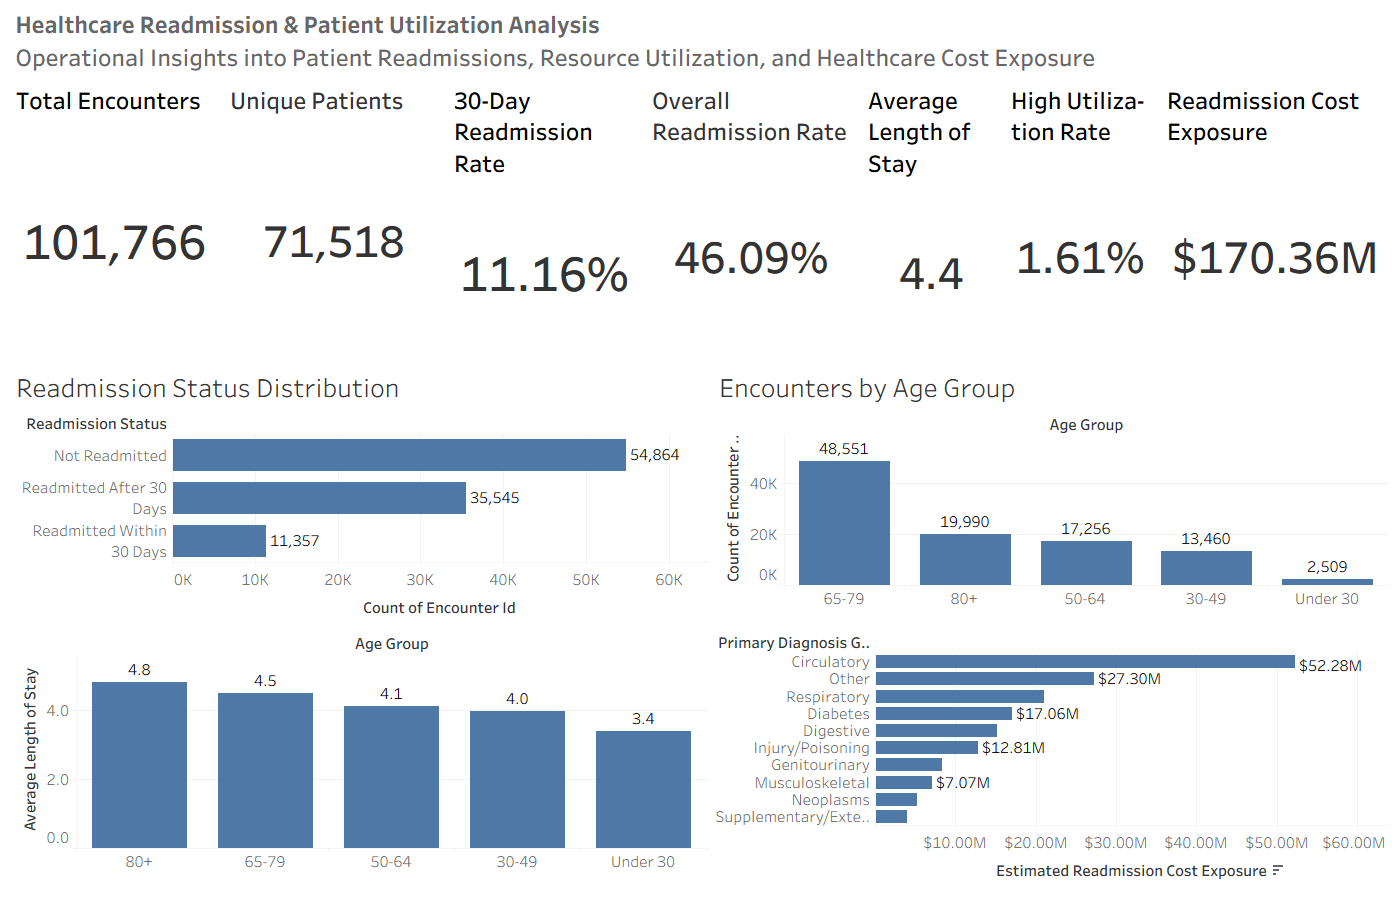

What the dashboard file says about the page in this screenshot:
{"tool":"tableau","page":{"name":"Healthcare Readmission & Patient Utilization Analysis","canvas":[1400,900],"ordinal":0},"visuals":[{"type":"text","box":[8,8,1384,32]},{"type":"text","box":[8,40,1384,34]},{"type":"worksheet","title":"KPI - Total Encounters","mark":"Automatic","box":[8,74,214,286]},{"type":"worksheet","title":"KPI - Unique Patients","mark":"Automatic","box":[222,74,224,286]},{"type":"worksheet","title":"KPI - 30 Day Readmission Rate","mark":"Text","box":[446,74,198,286]},{"type":"worksheet","title":"KPI - Overall Readmission Rate","mark":"Automatic","box":[644,74,216,286]},{"type":"worksheet","title":"KPI - Average Length of Stay","mark":"Automatic","box":[860,74,143,286]},{"type":"worksheet","title":"KPI - High Utilization Rate","mark":"Automatic","box":[1003,74,156,286]},{"type":"worksheet","title":"KPI - Estimated Readmission Cost Exposure","mark":"Automatic","box":[1158.9,74,233.1,286]},{"type":"worksheet","title":"Readmission Status Distribution","mark":"Automatic","rows":["readmission_status"],"cols":["encounter_id"],"box":[8,360,703,269]},{"type":"worksheet","title":"Encounters by Age Group","mark":"Automatic","rows":["encounter_id"],"cols":["age_group"],"box":[711,360,681,269]},{"type":"worksheet","title":"Average Length of Stay by Age Group","mark":"Automatic","rows":["Calculation_0899963196809220"],"cols":["age_group"],"box":[8,629,703,263]},{"type":"worksheet","title":"Readmission Cost Exposure by Diagnosis Group","mark":"Automatic","rows":["primary_diagnosis_group"],"cols":["estimated_readmission_cost_exposure"],"box":[711,629,681,263]}]}

Visuals, with their boxes in screenshot pixels (x1, y1, x2, y2), scaled from the page's 1400x900 canvas onto the 1400x900 screenshot:
text: (x1=8, y1=8, x2=1392, y2=40)
text: (x1=8, y1=40, x2=1392, y2=74)
"KPI - Total Encounters" worksheet: (x1=8, y1=74, x2=222, y2=360)
"KPI - Unique Patients" worksheet: (x1=222, y1=74, x2=446, y2=360)
"KPI - 30 Day Readmission Rate" worksheet (Text marks): (x1=446, y1=74, x2=644, y2=360)
"KPI - Overall Readmission Rate" worksheet: (x1=644, y1=74, x2=860, y2=360)
"KPI - Average Length of Stay" worksheet: (x1=860, y1=74, x2=1003, y2=360)
"KPI - High Utilization Rate" worksheet: (x1=1003, y1=74, x2=1159, y2=360)
"KPI - Estimated Readmission Cost Exposure" worksheet: (x1=1159, y1=74, x2=1392, y2=360)
"Readmission Status Distribution" worksheet: (x1=8, y1=360, x2=711, y2=629)
"Encounters by Age Group" worksheet: (x1=711, y1=360, x2=1392, y2=629)
"Average Length of Stay by Age Group" worksheet: (x1=8, y1=629, x2=711, y2=892)
"Readmission Cost Exposure by Diagnosis Group" worksheet: (x1=711, y1=629, x2=1392, y2=892)
